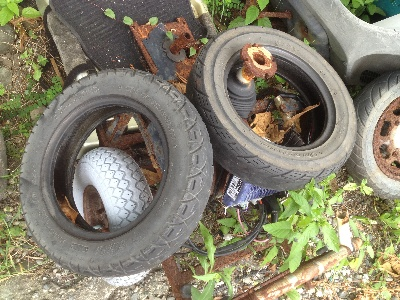tire: (18, 69, 215, 276), (190, 26, 358, 192)
